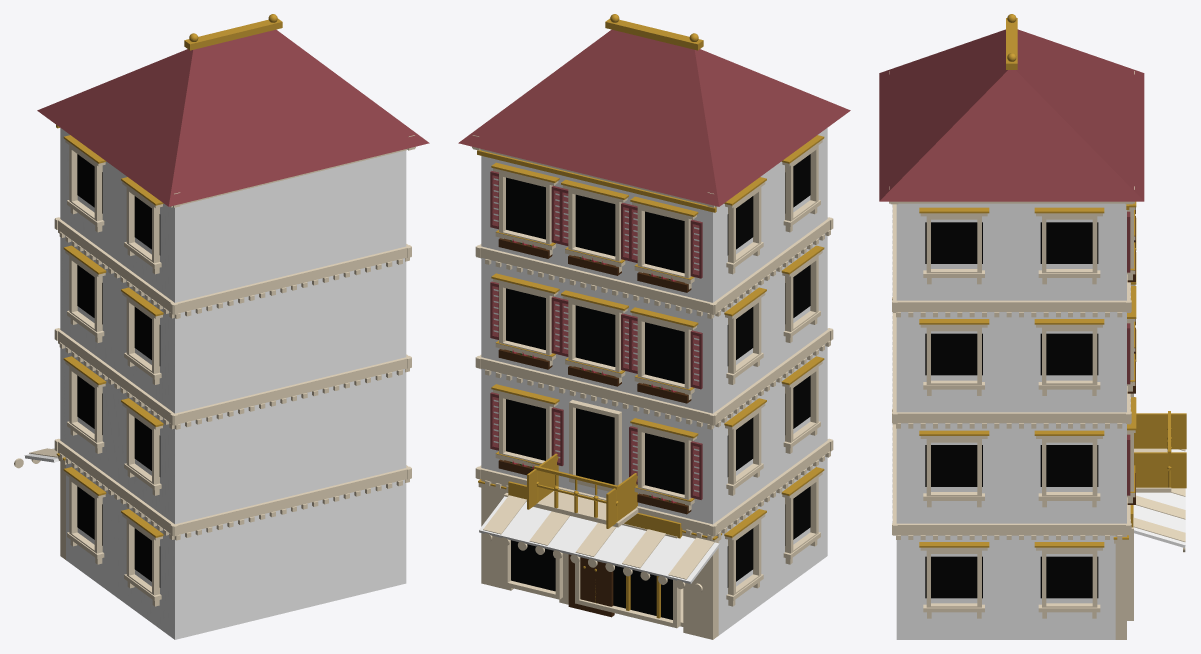
The model's file is gedung-g05-blender-v1.glb.
3 renders of one model, left to right at view 1: azimuth 30°, elevation 25°; view 2: azimuth 150°, elevation 25°; view 3: azimuth 270°, elevation 25°, orthographic.
Visible parts, largest first — view 1: Awning, Atap_Belakang, Awning_Scallop0, Balkon_PintuBack, Bal_0_base; view 2: Awning_Scallop0, Awning, Atap_Belakang, Balkon_PintuBack, Bal_0_base, EtalaseKanan_Back; view 3: Awning, Atap_Belakang, Awning_Scallop0, Balkon_PintuBack, Bal_0_base.
Boxes of the visible parts, left/top/right/bottom form: Awning: left=24, top=128, right=406, bottom=639; Atap_Belakang: left=37, top=29, right=429, bottom=206; Awning_Scallop0: left=14, top=135, right=415, bottom=606; Balkon_PintuBack: left=77, top=154, right=160, bottom=587; Bal_0_base: left=56, top=14, right=282, bottom=537; Awning_Scallop0: left=472, top=135, right=833, bottom=639; Awning: left=479, top=128, right=827, bottom=635; Atap_Belakang: left=458, top=29, right=850, bottom=499; Balkon_PintuBack: left=506, top=154, right=810, bottom=619; Bal_0_base: left=477, top=14, right=824, bottom=618; EtalaseKanan_Back: left=498, top=238, right=691, bottom=617; Awning: left=896, top=203, right=1185, bottom=639; Atap_Belakang: left=879, top=29, right=1144, bottom=495; Awning_Scallop0: left=889, top=71, right=1185, bottom=639; Balkon_PintuBack: left=925, top=222, right=1098, bottom=598; Bal_0_base: left=919, top=14, right=1186, bottom=547.
Size of the model in its own units: 7.98 by 15.77 by 8.
